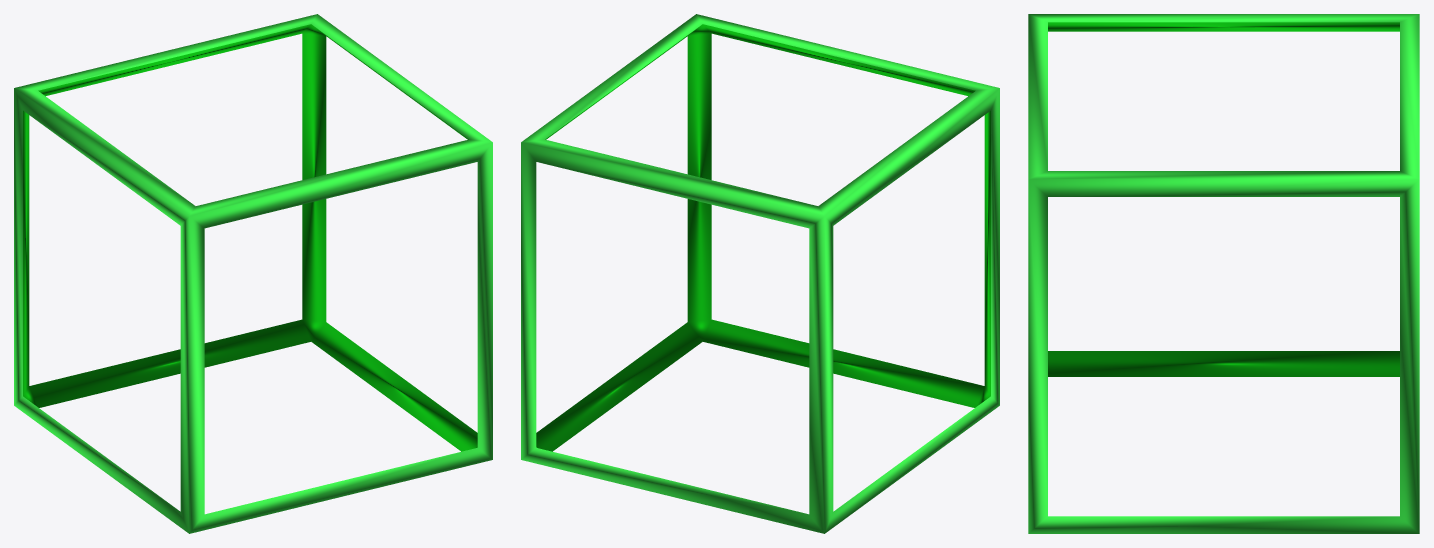
Rendered from Cursor.fbx.
3 renders of one model, left to right at view 1: azimuth 30°, elevation 25°; view 2: azimuth 150°, elevation 25°; view 3: azimuth 270°, elevation 25°, orthographic. The views are drawn at different scales.
Visible parts, largest first — view 1: cursor; view 2: cursor; view 3: cursor.
Part boxes in pixels (x1,y1,x2,y2): cursor: (14,14,492,533); cursor: (521,14,999,533); cursor: (1028,14,1419,533).
Size of the model in its own units: 1 by 1 by 1.
